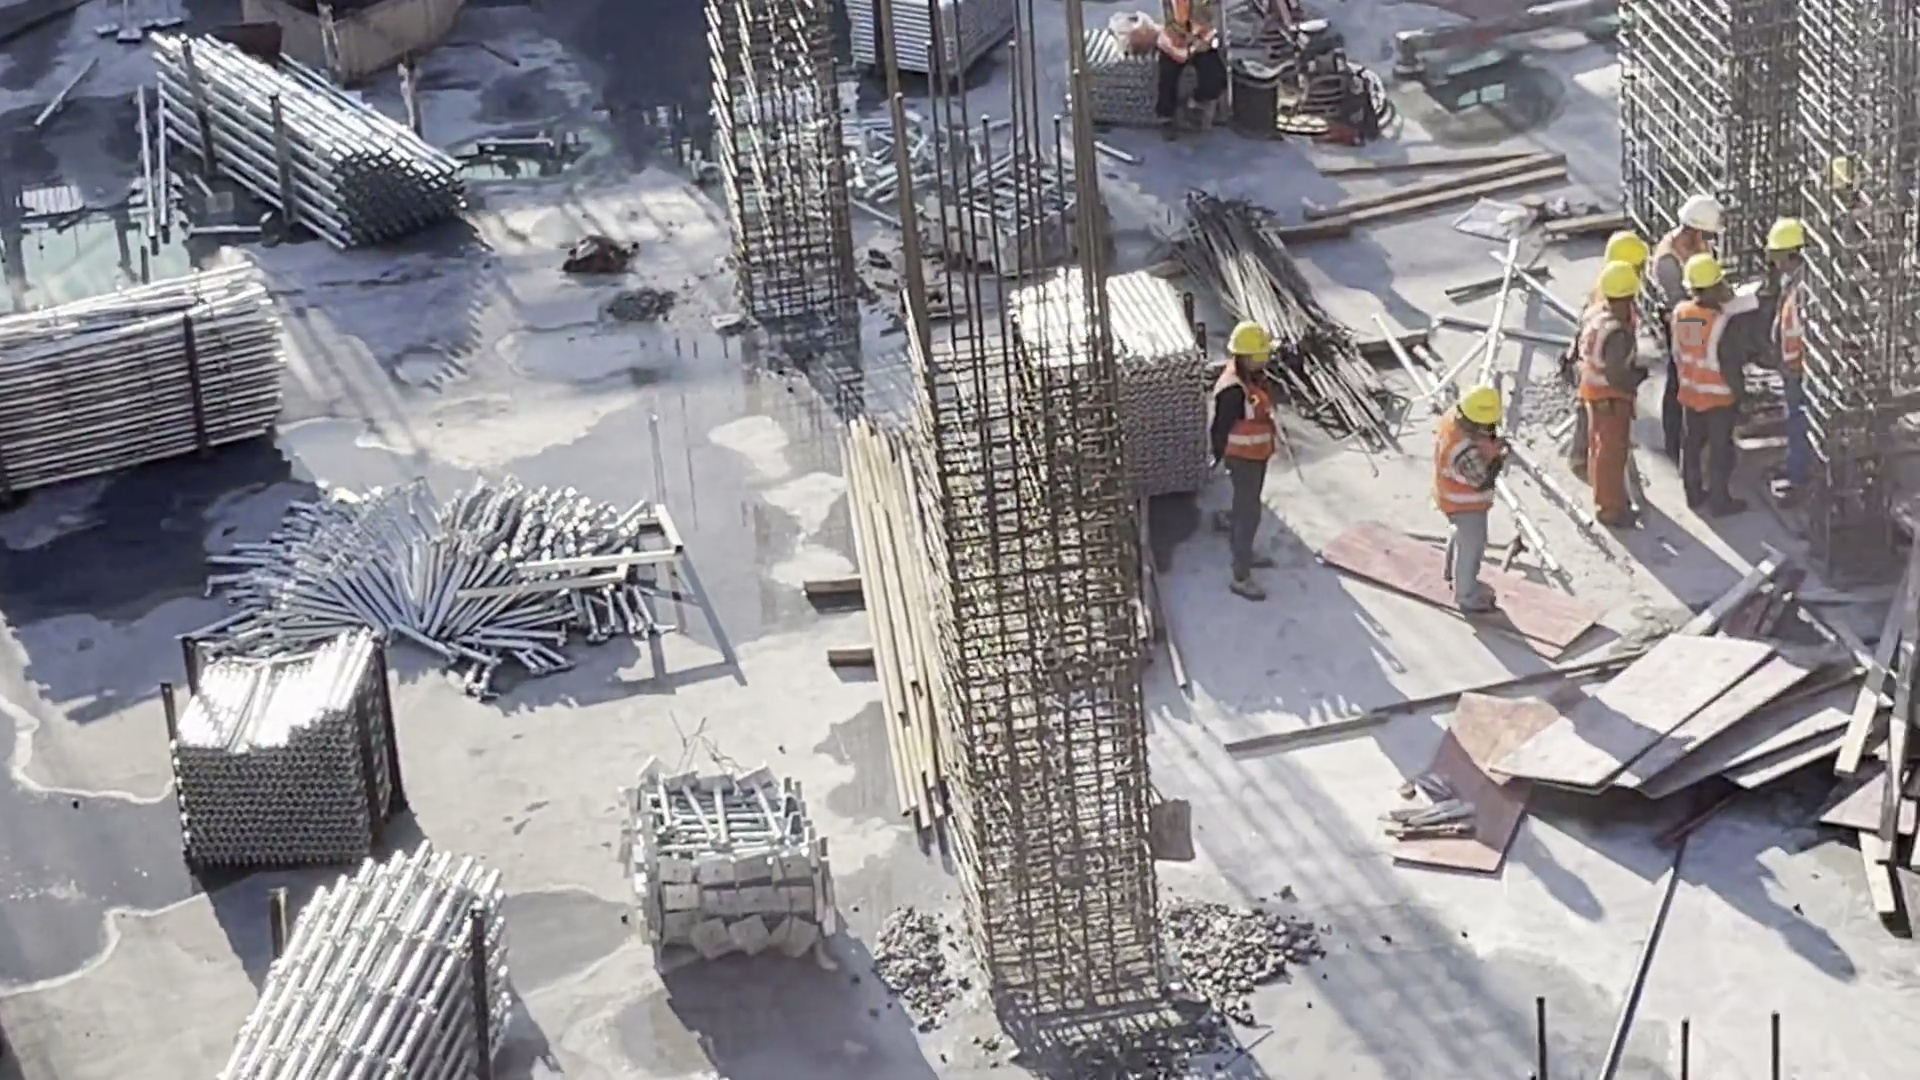board: (1556, 611, 1819, 813)
helmet: (1451, 388, 1507, 429), (1224, 329, 1277, 364), (1680, 195, 1721, 233), (1603, 269, 1646, 304), (1763, 226, 1811, 257), (1612, 230, 1650, 260), (1689, 261, 1725, 290)
hopper: (280, 1, 464, 67)
person: (1206, 315, 1300, 620), (1426, 386, 1529, 624), (1666, 249, 1746, 541), (1649, 187, 1721, 487), (1767, 223, 1830, 505), (1586, 263, 1647, 542), (1138, 1, 1228, 143), (1574, 222, 1654, 361)
rebar: (1224, 211, 1388, 451)
scaffold: (224, 487, 663, 688), (148, 27, 480, 289), (219, 853, 509, 1080), (1, 307, 307, 484), (172, 628, 389, 865), (1033, 271, 1199, 527), (858, 1, 1024, 109), (1072, 56, 1156, 121)
vest: (1219, 372, 1277, 469), (1674, 308, 1723, 407), (1443, 431, 1496, 507), (1582, 322, 1631, 395), (1157, 2, 1219, 48), (1774, 292, 1805, 368)
